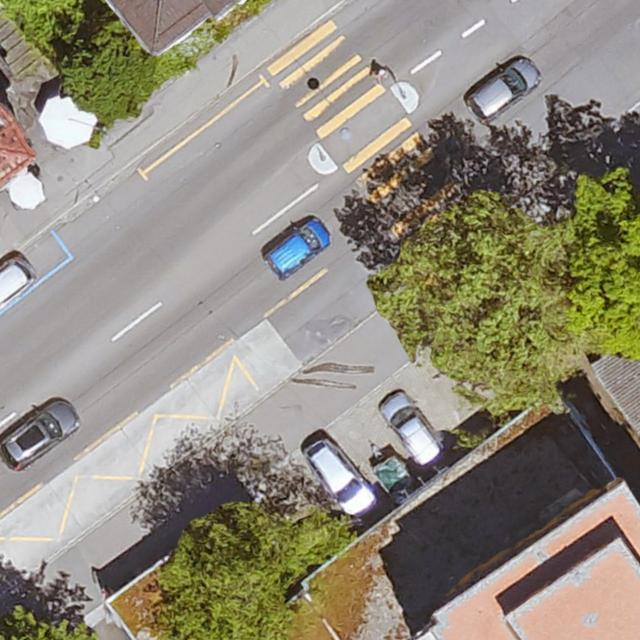tree: (380, 203, 569, 401), (173, 508, 334, 640), (566, 180, 640, 353), (69, 38, 151, 118), (0, 613, 90, 640)
